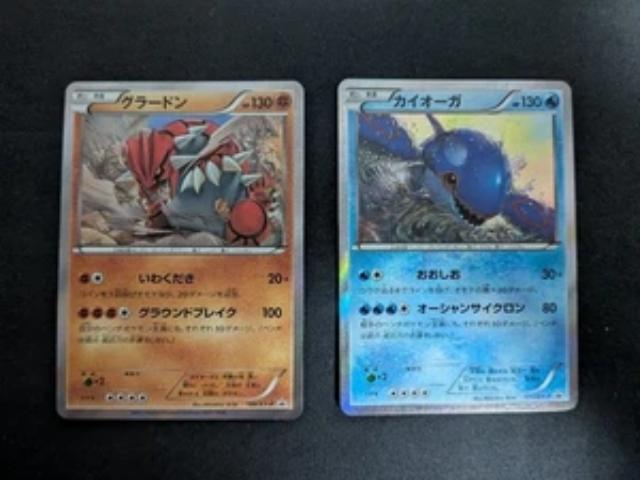Card: (54, 75, 311, 425), (335, 75, 584, 419)
Name: (115, 92, 196, 113), (388, 91, 469, 111)
